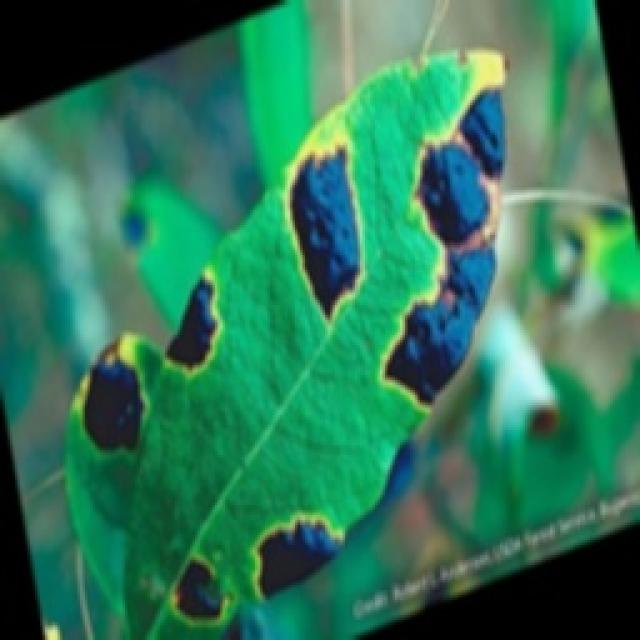Tar_Spot: (58, 70, 551, 587)
